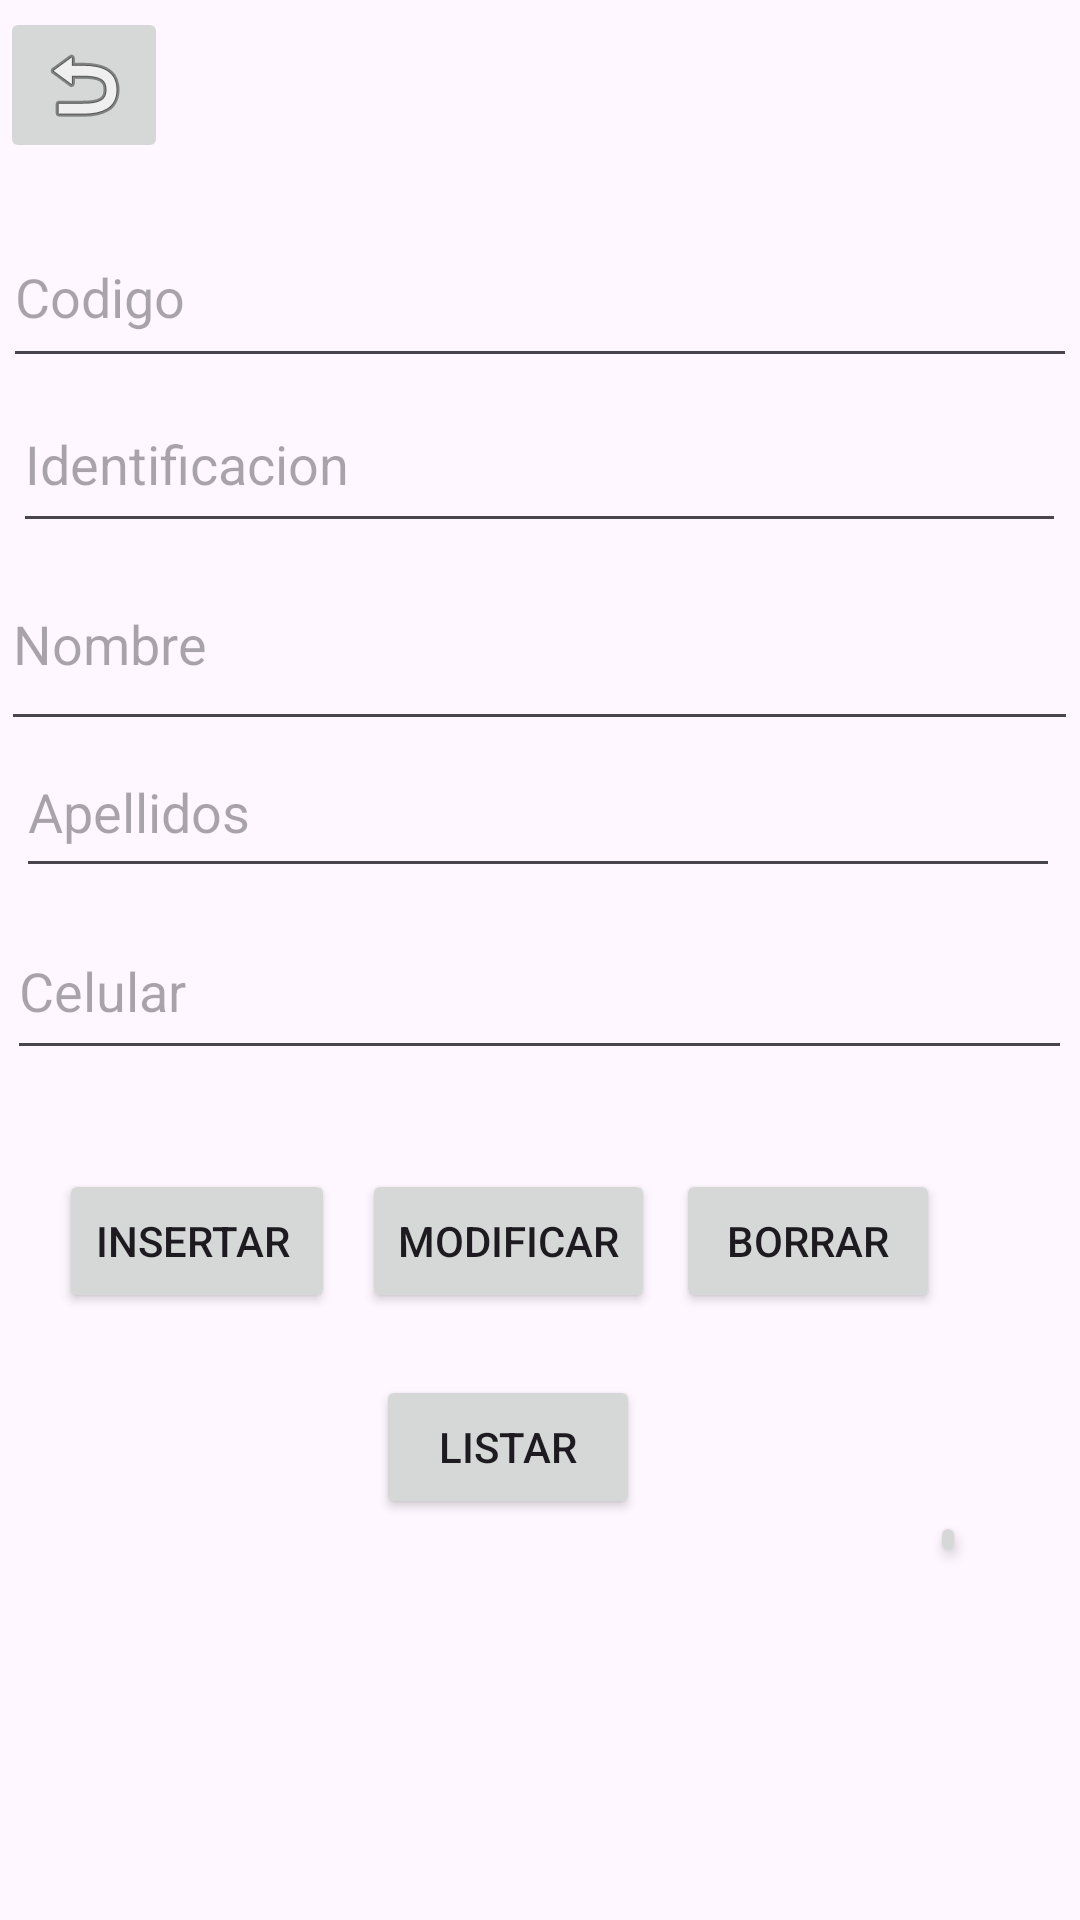

Icon click points for this 1080 × 1920 phone screenshot, format (x,y):
revert: (84,85)
